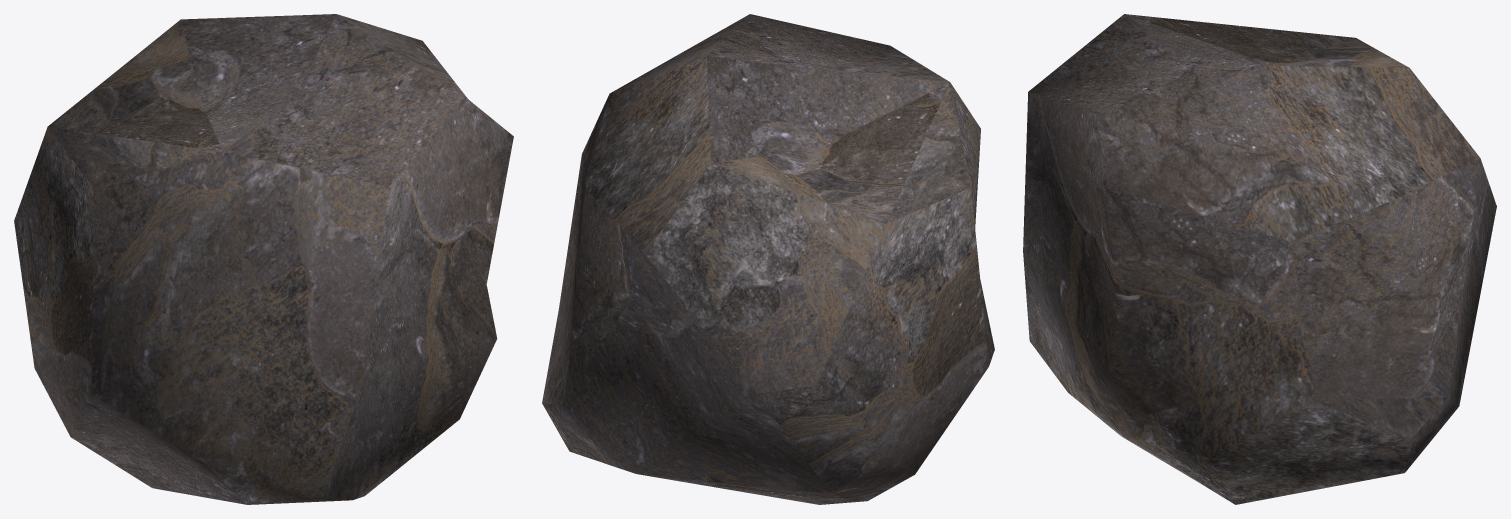
Rendered from RockOne.obj.
3 renders of one model, left to right at view 1: azimuth 30°, elevation 25°; view 2: azimuth 150°, elevation 25°; view 3: azimuth 270°, elevation 25°, orthographic. The views are drawn at different scales.
Visible parts, largest first — view 1: Rock; view 2: Rock; view 3: Rock.
Part boxes in pixels (<box>): Rock: <box>14,14,513,504</box>; Rock: <box>542,14,994,504</box>; Rock: <box>1023,14,1496,504</box>.
Bounding box in the file's own units: 5.54 × 5.85 × 5.86.
1 material, 1 textured.
